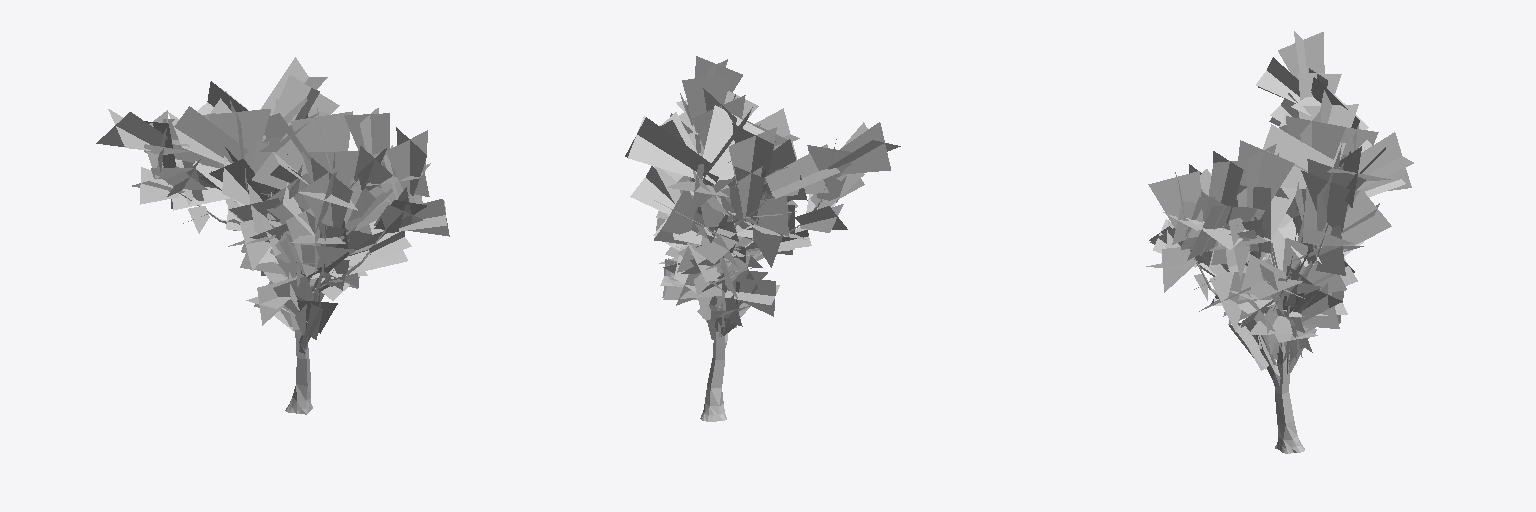
Rendered from tree02.obj.
3 renders of one model, left to right at view 1: azimuth 30°, elevation 25°; view 2: azimuth 150°, elevation 25°; view 3: azimuth 270°, elevation 25°, orthographic.
Visible parts, largest first — view 1: tree02; view 2: tree02; view 3: tree02.
Part boxes in pixels (bbox=[...]): tree02: bbox=[96, 57, 449, 414]; tree02: bbox=[625, 56, 900, 421]; tree02: bbox=[1146, 31, 1413, 453].
Size of the model in its own units: 10.49 by 11.92 by 8.64.